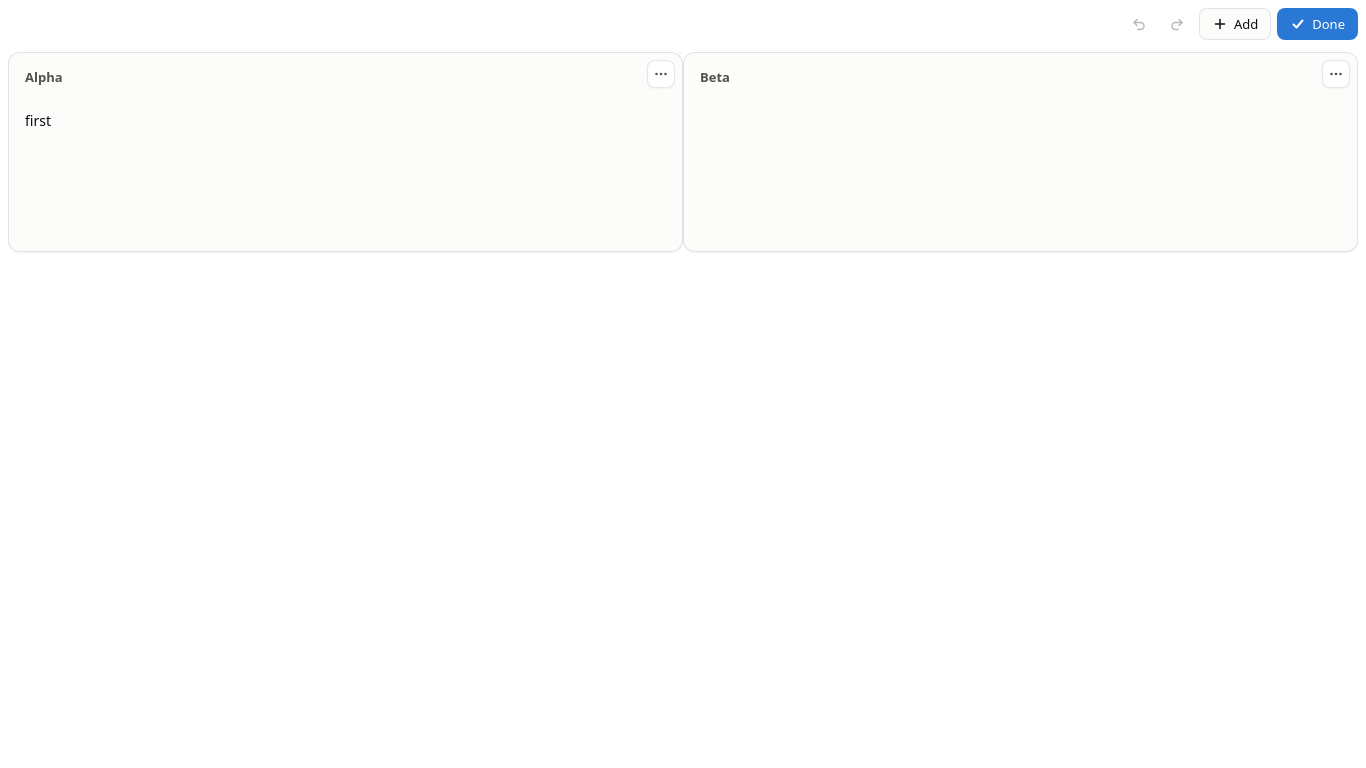
Scenario: <Dashboard> editing › edits title, geometry and pin from the brick menu
The image size is (1366, 768).
Later steps or results of the test are not shown.
Click the button named "Brick options: Alpha" at (661, 74), box [647,60,675,88]
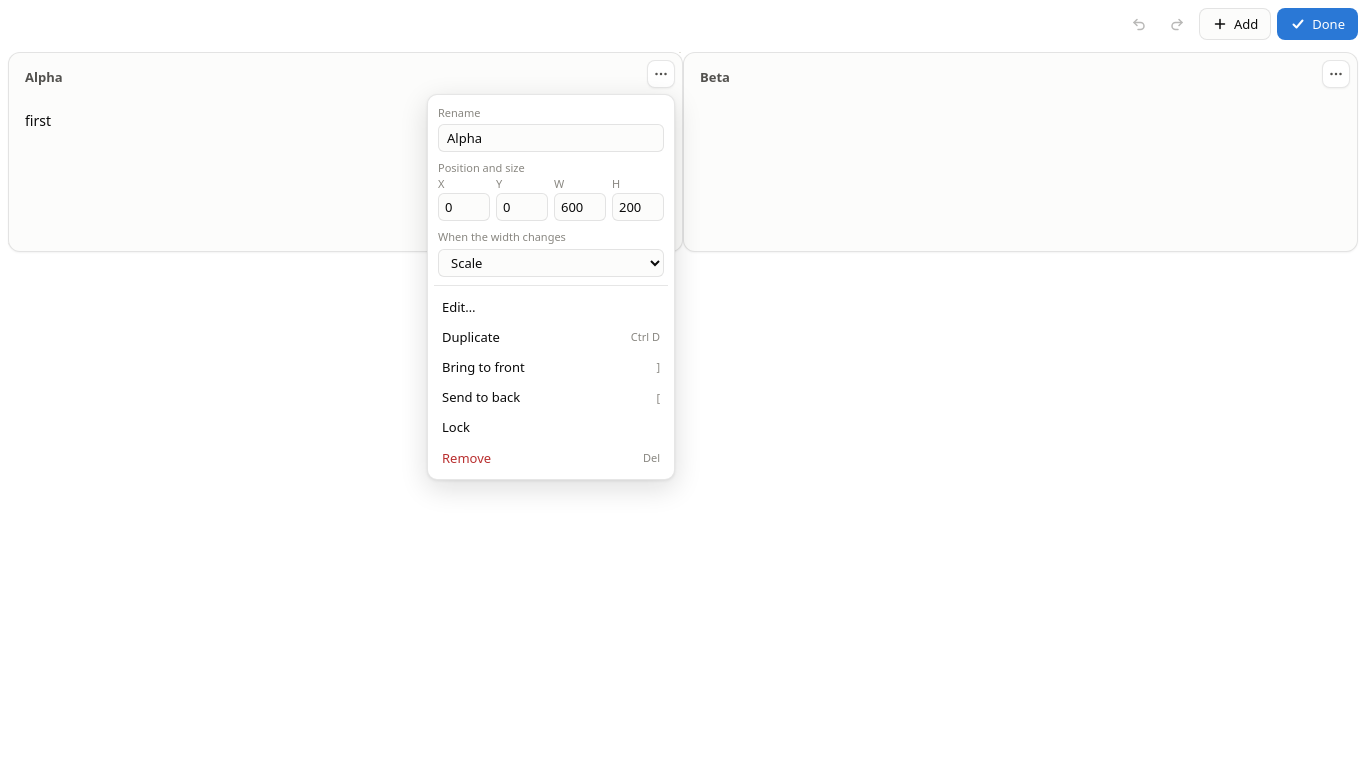
Replace the text in the field labelled "Rename" with "Renamed" at (551, 138), box [438,124,664,152]
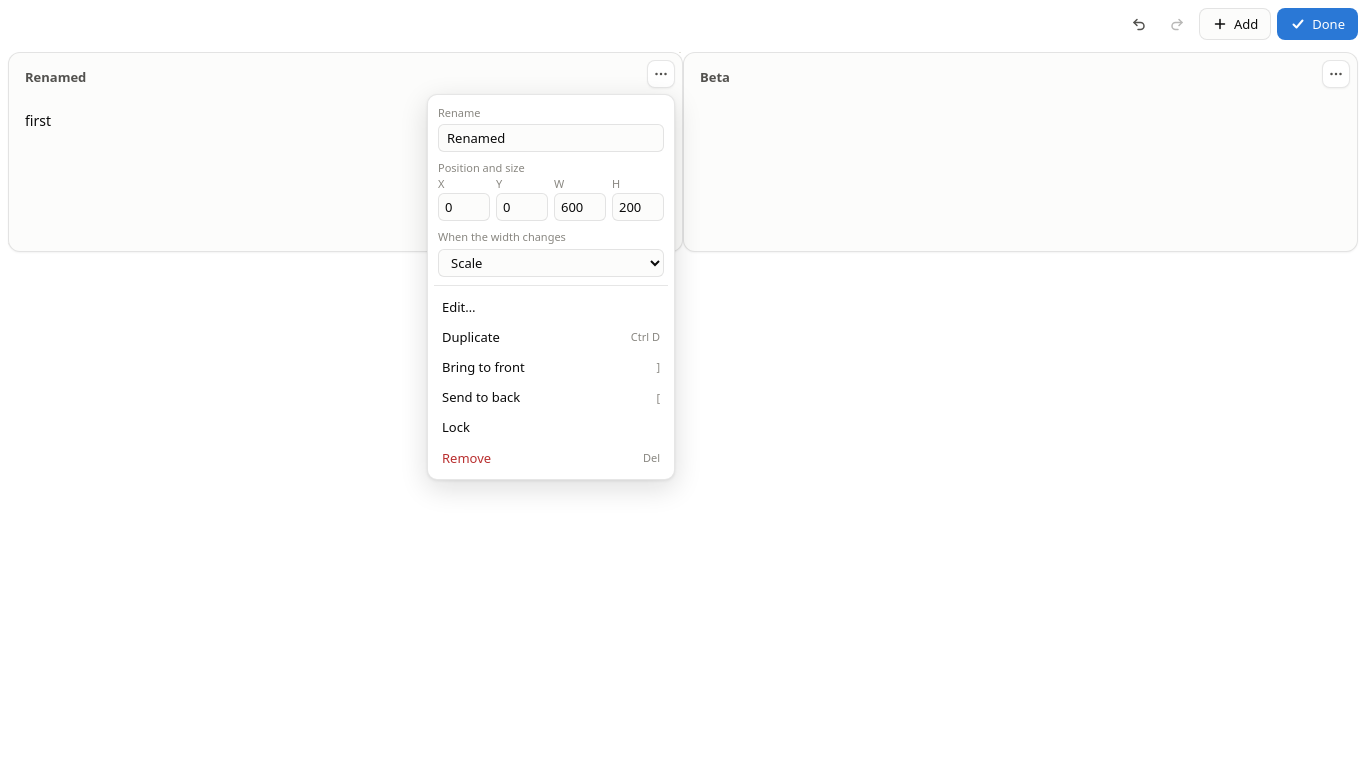
Replace the text in the number field labelled "W" with "480" at (580, 207), box [554,193,606,221]
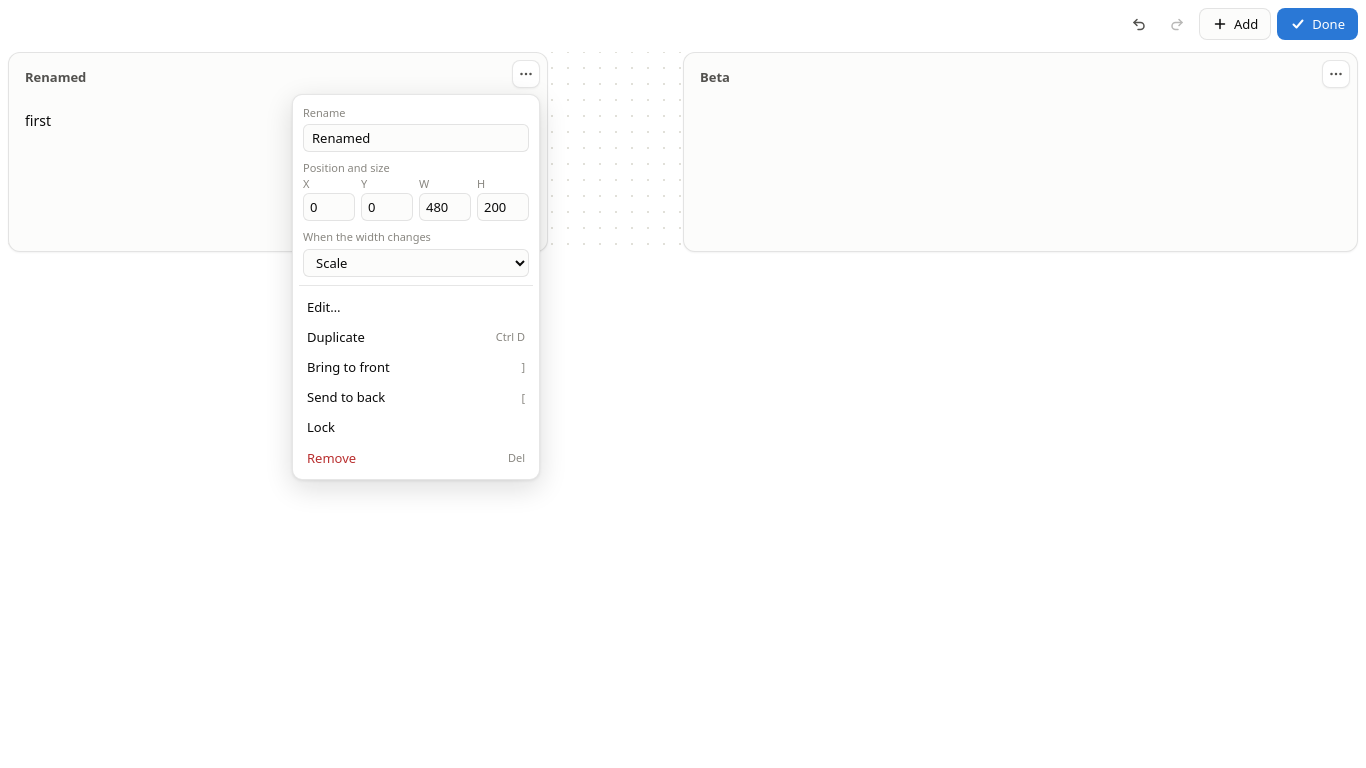
Select "Pin left" in the dropdown labelled "When the width changes" at (416, 263), box [303,249,529,277]
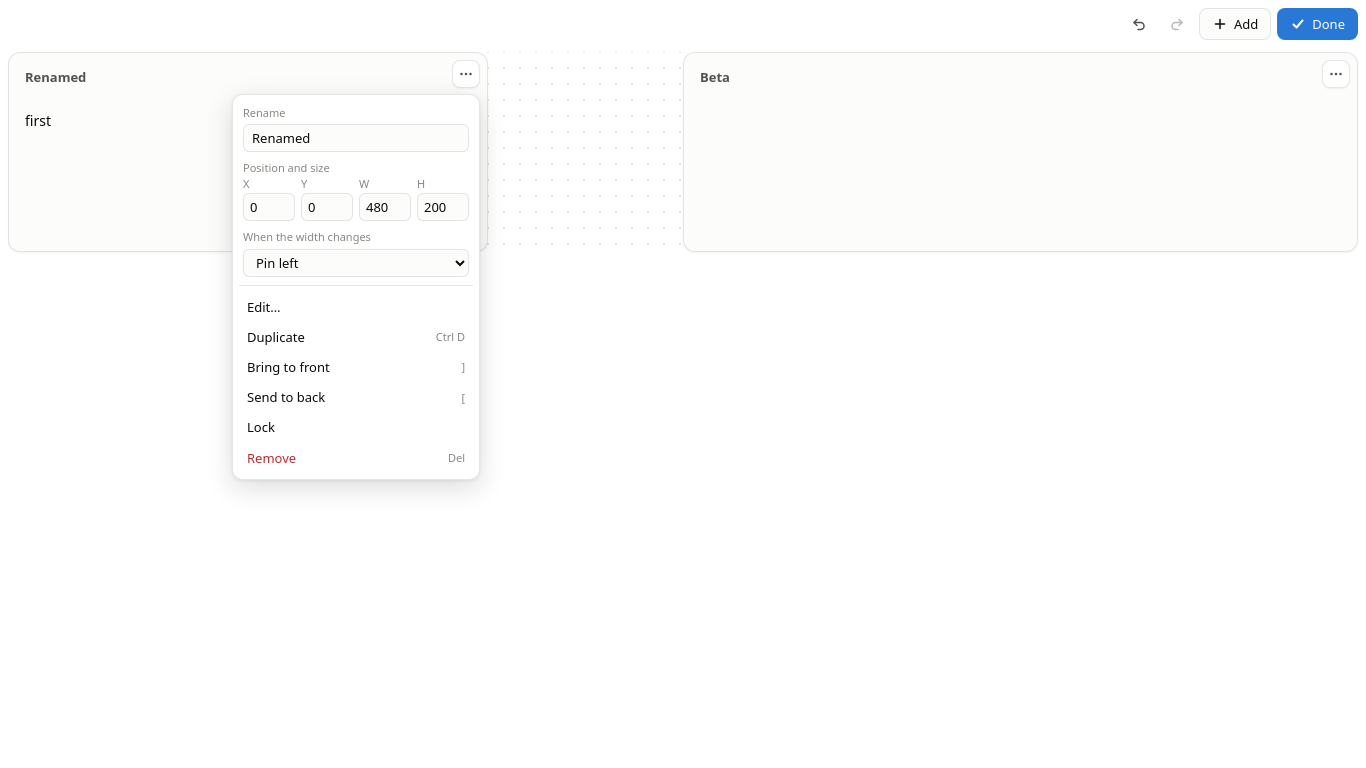
Click the button "Edit…" at (356, 307), box [239,292,473,322]
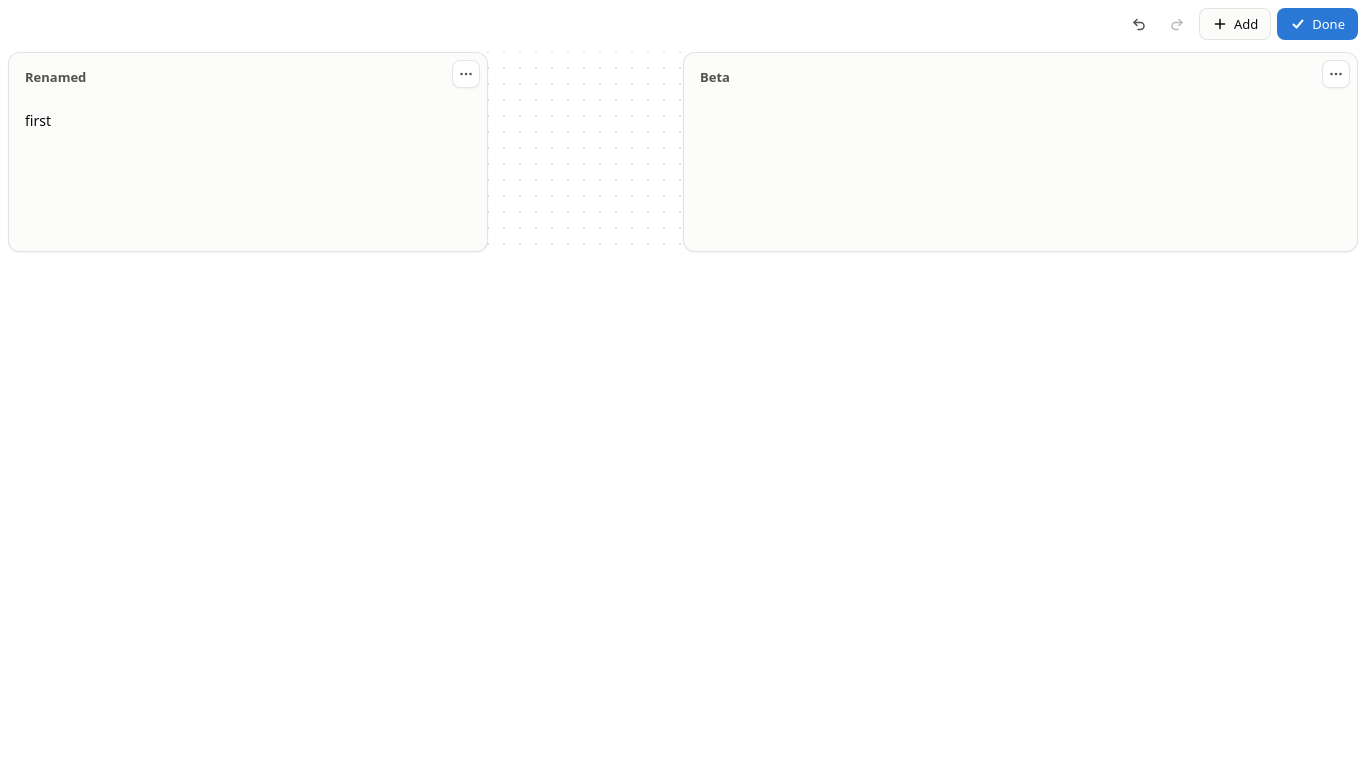
Now the dialog is gone
